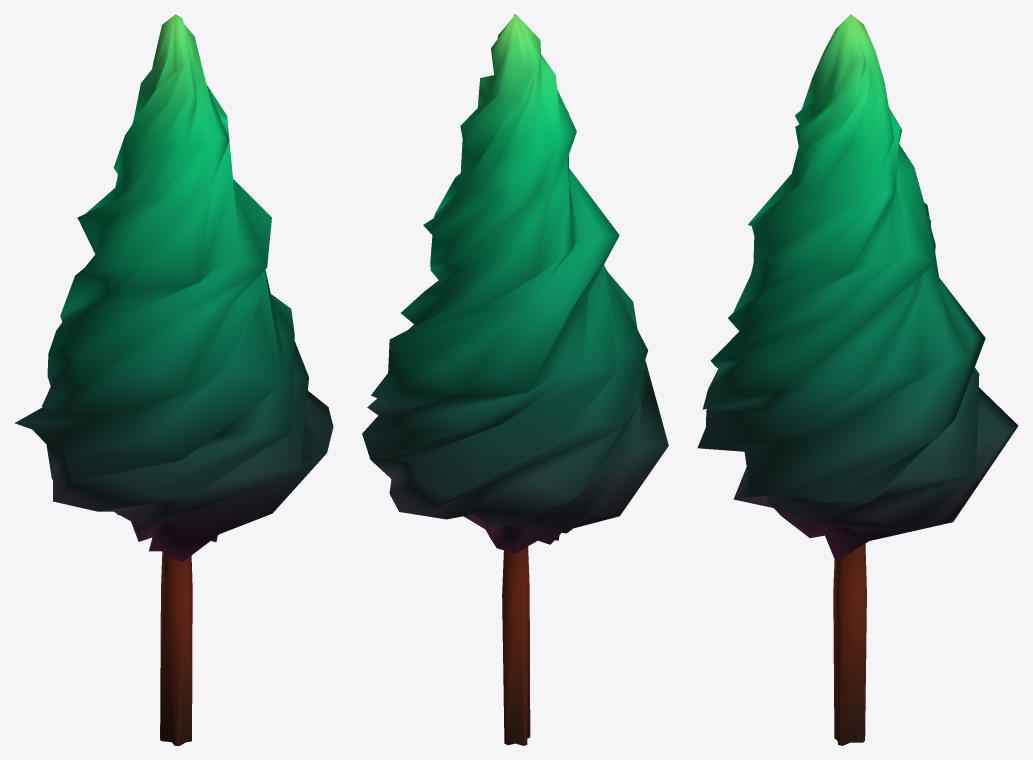
Rendered from Pine_Tree_1B.fbx.
The picture shows the model from 3 angles, left to right: view 1: azimuth 30°, elevation 25°; view 2: azimuth 150°, elevation 25°; view 3: azimuth 270°, elevation 25°; orthographic projection.
Parts seen in each view (by area): view 1: Pine_Tree_1B; view 2: Pine_Tree_1B; view 3: Pine_Tree_1B.
Part boxes in pixels (bbox=[...]): Pine_Tree_1B: bbox=[14, 14, 333, 745]; Pine_Tree_1B: bbox=[362, 14, 668, 745]; Pine_Tree_1B: bbox=[697, 14, 1018, 745].
Size of the model in its own units: 342 by 882 by 354.
